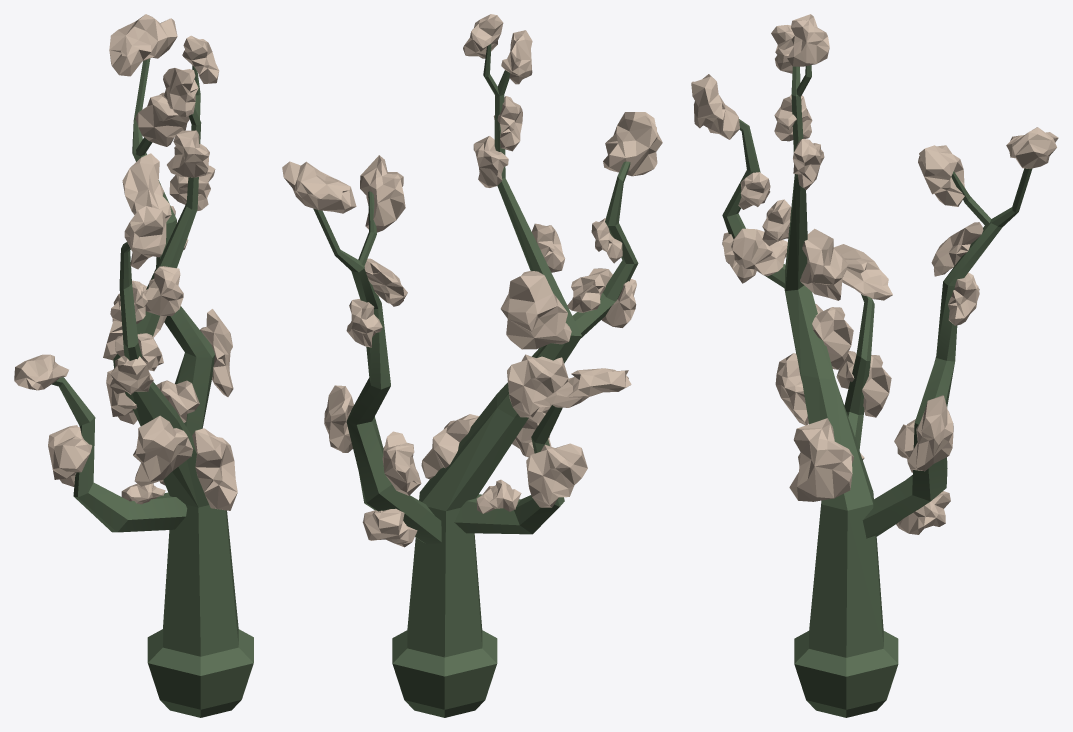
Rendered from peach tree4.fbx.
3 renders of one model, left to right at view 1: azimuth 30°, elevation 25°; view 2: azimuth 150°, elevation 25°; view 3: azimuth 270°, elevation 25°, orthographic.
Visible parts, largest first — view 1: polySurface66; view 2: polySurface66; view 3: polySurface66.
Boxes of the visible parts, bbox=[...] form: polySurface66: bbox=[14, 14, 253, 717]; polySurface66: bbox=[282, 14, 662, 717]; polySurface66: bbox=[691, 14, 1058, 717].
Bounding box in the file's own units: 170 × 426 × 211.
